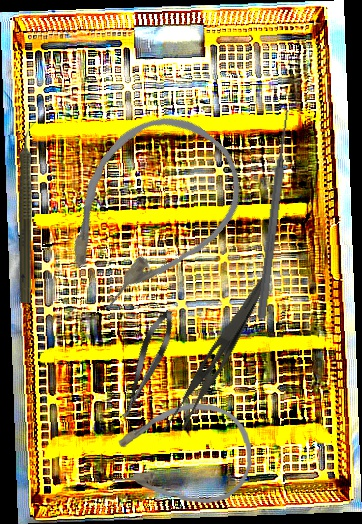Cannula: (32, 91, 264, 331), (108, 400, 254, 509)
Dressing Forceps: (160, 265, 270, 444)
Handpiece: (17, 121, 38, 303)
Micro Scissor: (112, 306, 181, 424)
Pusher: (255, 107, 294, 320)
